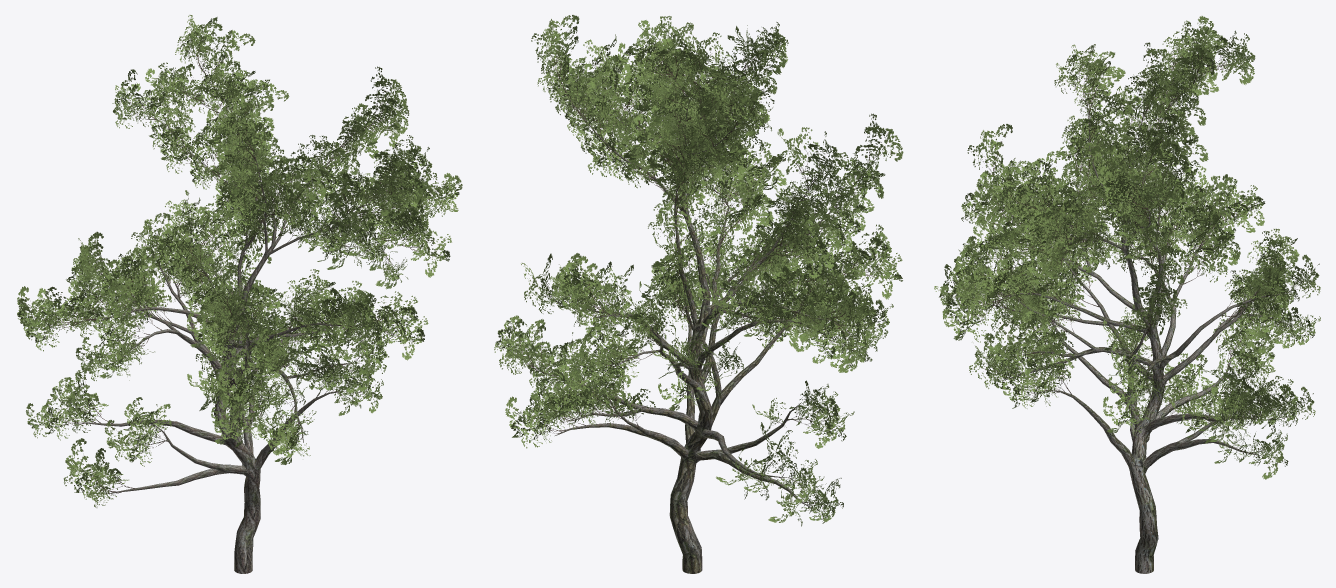
Rendered from tree_for_games.glb.
The picture shows the model from 3 angles, left to right: view 1: azimuth 30°, elevation 25°; view 2: azimuth 150°, elevation 25°; view 3: azimuth 270°, elevation 25°; orthographic projection. The views are drawn at different scales.
Visible parts, largest first — view 1: Plane.197; view 2: Plane.197; view 3: Plane.197.
Part boxes in pixels (bbox=[...]): Plane.197: bbox=[17, 15, 462, 573]; Plane.197: bbox=[494, 15, 903, 573]; Plane.197: bbox=[934, 16, 1320, 573].
Size of the model in its own units: 1595 by 2159 by 1403.
Materials: 2 (2 with a texture image).
